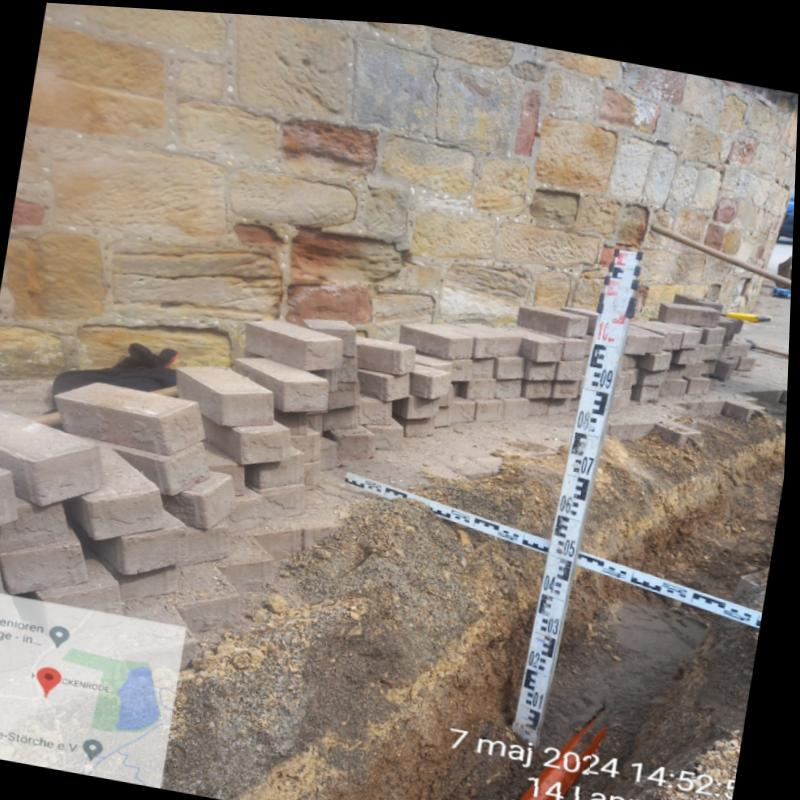Orang-Speednetrohrchen: (524, 727, 598, 800)
